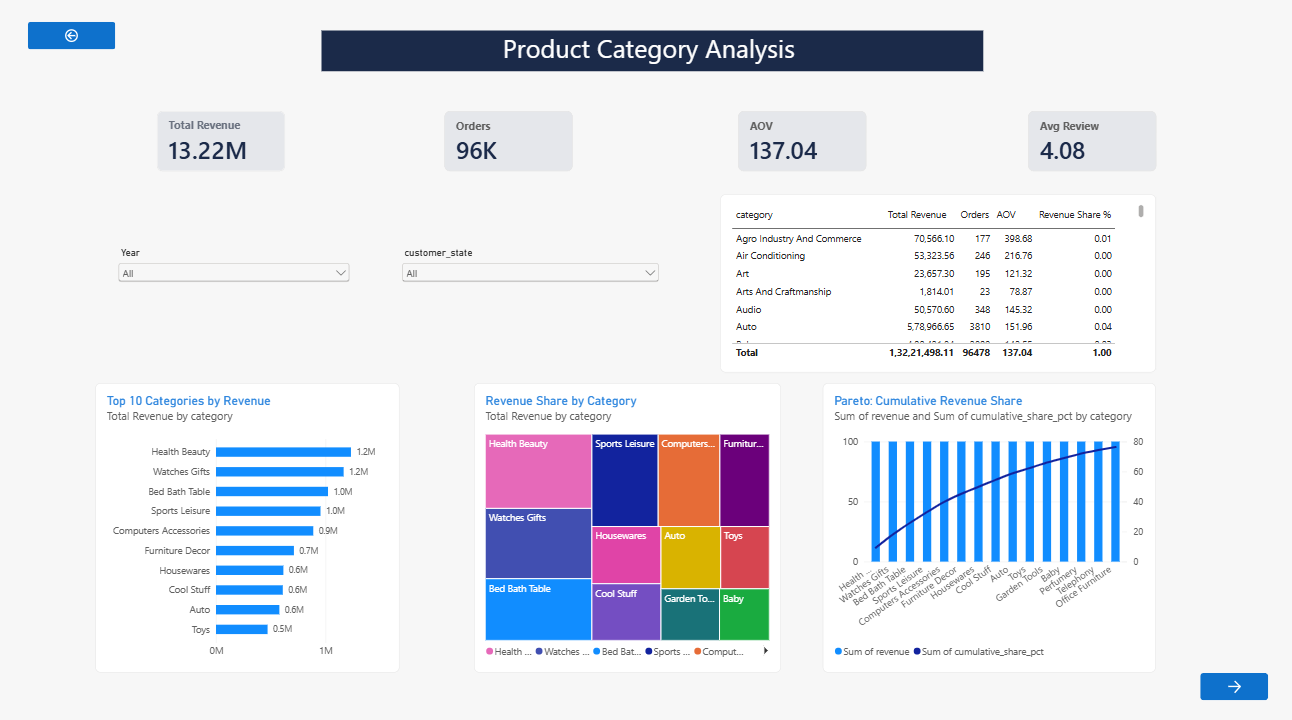

The dashboard page shown, as its layout file describes it:
{"tool":"powerbi","page":{"name":"Category","canvas":[1920,1080],"ordinal":1},"visuals":[{"type":"textbox","box":[481.3,54.4,974.1,60.2],"z":0},{"type":"slicer","fields":{"Values":["DimDate.Year"]},"box":[178.7,374.5,349.7,185],"z":1000},{"type":"slicer","fields":{"Values":["vw_sales_fact.customer_state"]},"box":[596.2,374.5,387.4,165.7],"z":2000},{"type":"cardVisual","fields":{"Data":["vw_sales_fact.Total Revenue"]},"box":[238.9,172.2,190,90],"z":3000},{"type":"cardVisual","fields":{"Data":["vw_sales_fact.Orders"]},"box":[663,172.2,190,90],"z":4000},{"type":"cardVisual","fields":{"Data":["vw_sales_fact.AOV"]},"box":[1095.6,172.2,190,90],"z":5000},{"type":"cardVisual","fields":{"Data":["vw_sales_fact.Avg Review"]},"box":[1521.8,172.2,190,90],"z":6000},{"type":"clusteredBarChart","title":"Top 10 Categories by Revenue","fields":{"Category":["vw_sales_fact.category"],"Y":["vw_sales_fact.Total Revenue"]},"box":[148.5,574.7,447.7,426.2],"z":7000},{"type":"treemap","title":"Revenue Share by Category","fields":{"Group":["vw_sales_fact.category"],"Values":["vw_sales_fact.Total Revenue"]},"box":[706,574.7,452,426.2],"z":8000},{"type":"lineClusteredColumnComboChart","title":"Pareto: Cumulative Revenue Share","fields":{"Category":["vw_category_performance.category"],"Y":["Sum(vw_category_performance.revenue)"],"Y2":["Sum(vw_category_performance.cumulative_share_pct)"]},"box":[1220.4,574.7,490.8,426.2],"z":9000},{"type":"tableEx","fields":{"Values":["vw_sales_fact.category","vw_sales_fact.Total Revenue","vw_sales_fact.Orders","vw_sales_fact.AOV","vw_sales_fact.Revenue Share %"]},"box":[1069.8,297,641.4,262.6],"z":10000},{"type":"actionButton","box":[49.5,43,129.1,40.9],"z":11000},{"type":"actionButton","box":[1775.8,1000.9,100,40],"z":12000}]}

Visuals, with their boxes in screenshot pixels (x1, y1, x2, y2), scaled from the page's 1920x1080 canvas onto the 1292x720 screenshot:
textbox: box(324, 36, 979, 76)
slicer - DimDate.Year: box(120, 250, 356, 373)
slicer - vw_sales_fact.customer_state: box(401, 250, 662, 360)
cardVisual - vw_sales_fact.Total Revenue: box(161, 115, 289, 175)
cardVisual - vw_sales_fact.Orders: box(446, 115, 574, 175)
cardVisual - vw_sales_fact.AOV: box(737, 115, 865, 175)
cardVisual - vw_sales_fact.Avg Review: box(1024, 115, 1152, 175)
"Top 10 Categories by Revenue" clusteredBarChart: box(100, 383, 401, 667)
"Revenue Share by Category" treemap: box(475, 383, 779, 667)
"Pareto: Cumulative Revenue Share" lineClusteredColumnComboChart: box(821, 383, 1151, 667)
tableEx - vw_sales_fact.category x vw_sales_fact.Total Revenue: box(720, 198, 1151, 373)
actionButton: box(33, 29, 120, 56)
actionButton: box(1195, 667, 1262, 694)
